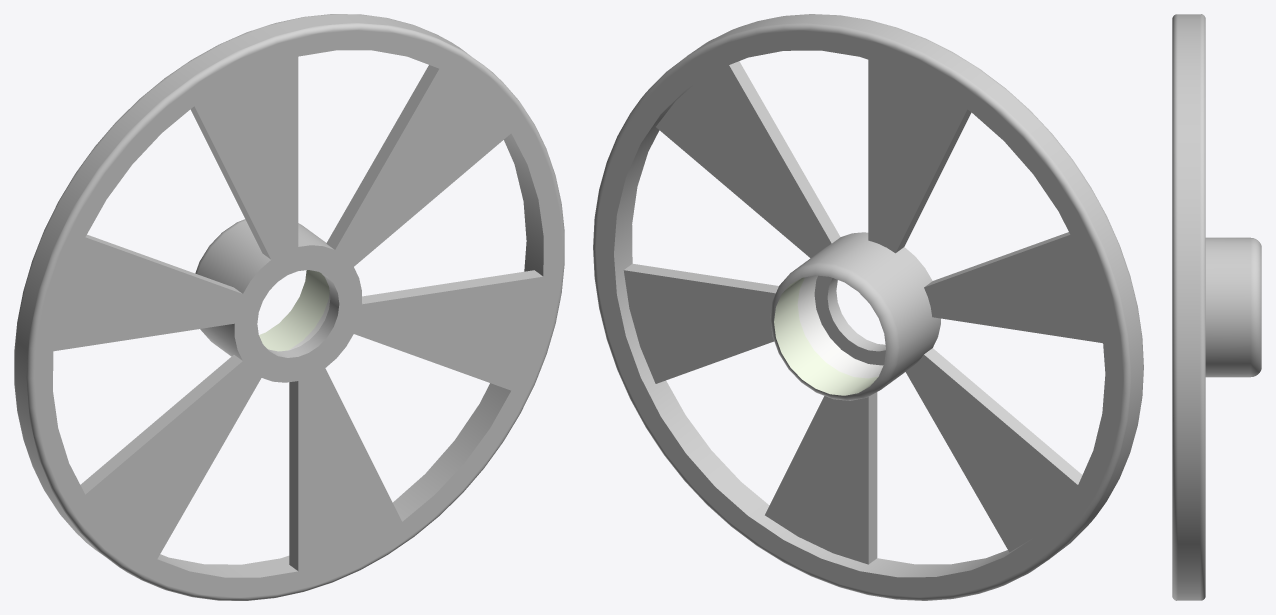
File: wheel.glb
The picture shows the model from 3 angles, left to right: view 1: azimuth 30°, elevation 25°; view 2: azimuth 150°, elevation 25°; view 3: azimuth 270°, elevation 25°; orthographic projection. The views are drawn at different scales.
Visible parts, largest first — view 1: Body1; view 2: Body1; view 3: Body1.
Part boxes in pixels (<box>): Body1: <box>14,14,564,600</box>; Body1: <box>593,14,1143,600</box>; Body1: <box>1172,14,1261,600</box>.
Bounding box in the file's own units: 10.5 × 10.49 × 1.6.
